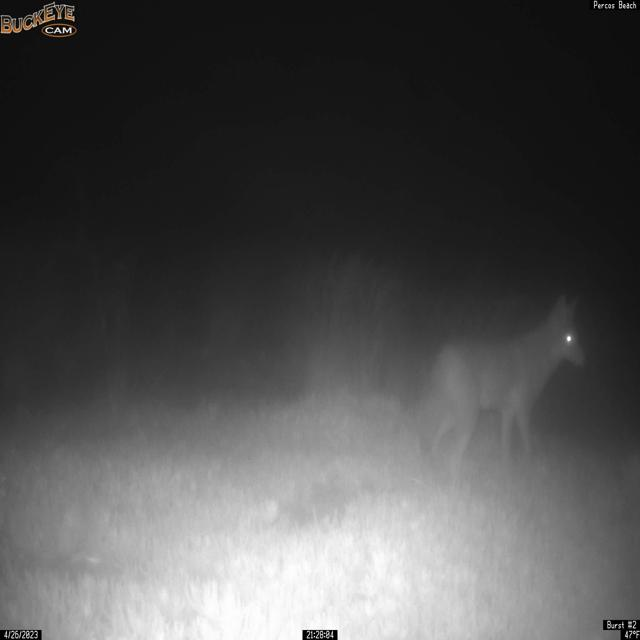coyote: (421, 292, 588, 488)
